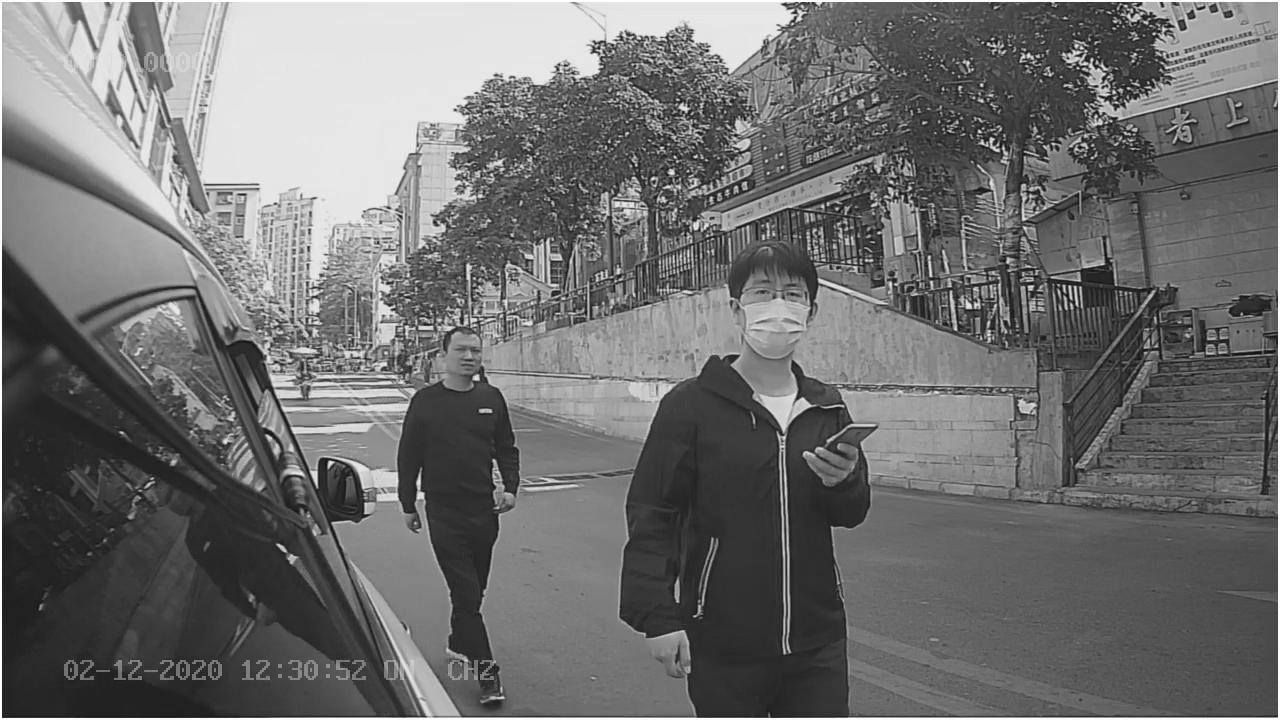person: (619, 235, 883, 677), (396, 323, 537, 538)
